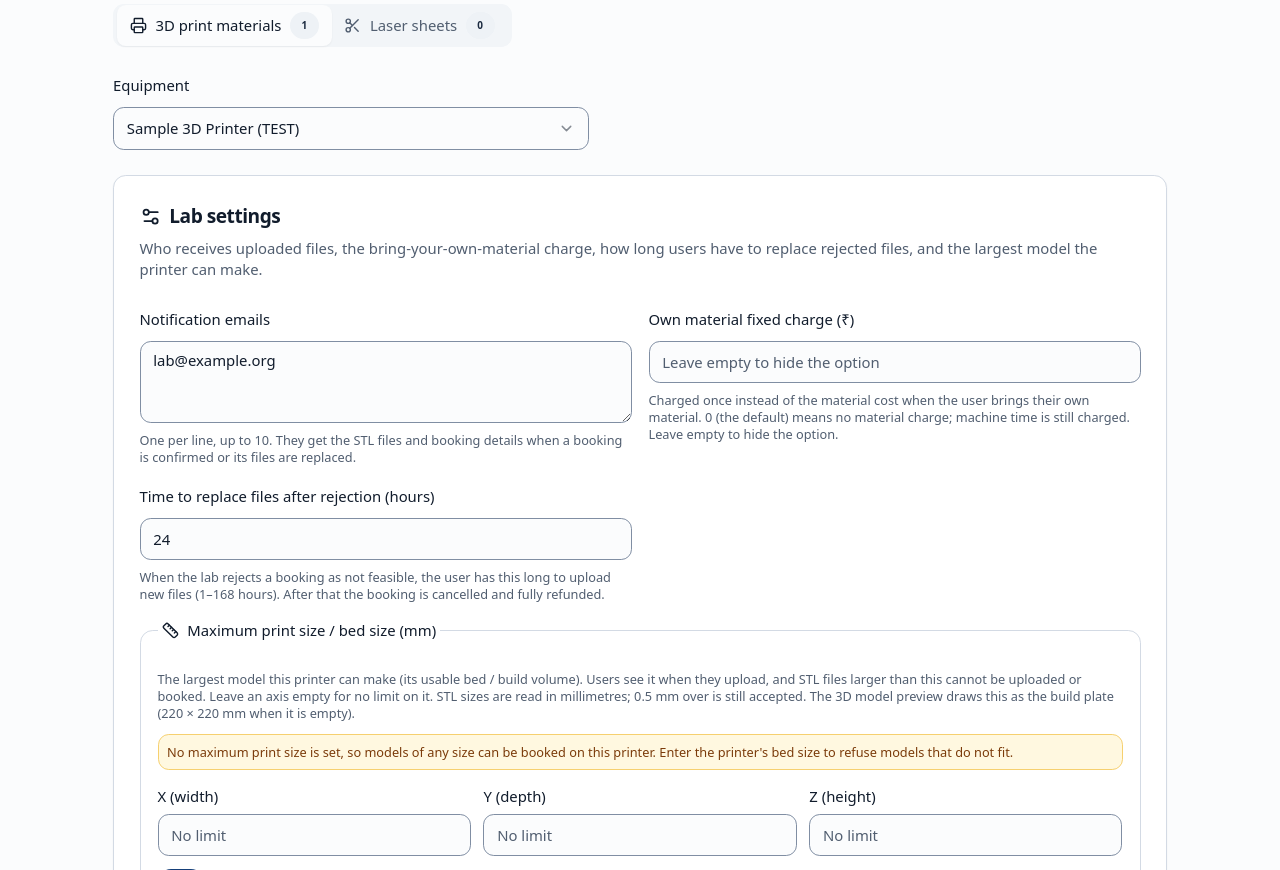
it: OICPrintMaterials lab settings › saves the maximum print size and the rotation choice; blank axes mean no limit
The width and height of the screenshot is (1280, 870).
Type "250" into the number field labelled "X (width)" at (314, 835), box left=158, top=814, right=471, bottom=856
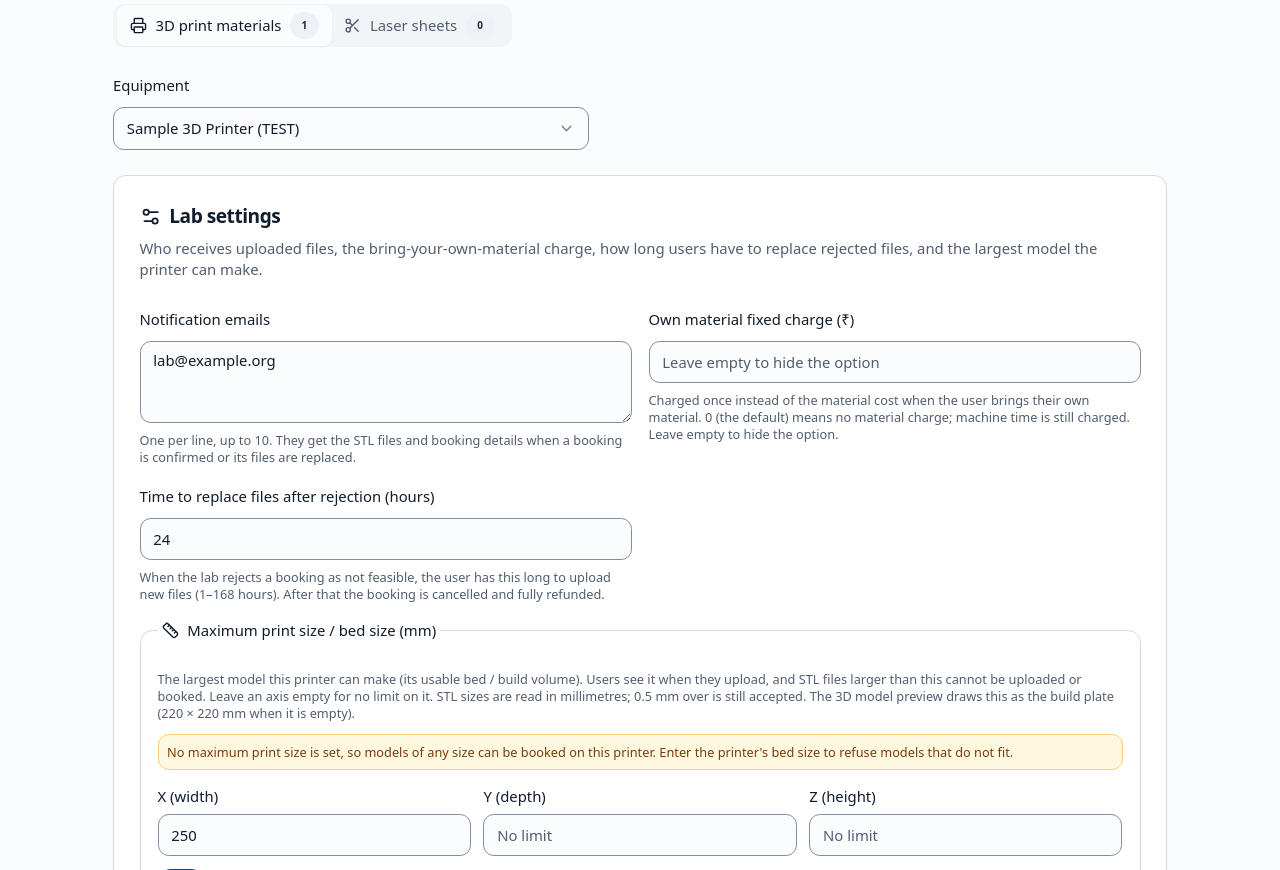
Type "210" into the number field labelled "Y (depth)" at (640, 835), box left=483, top=814, right=797, bottom=856
(page scrolled)
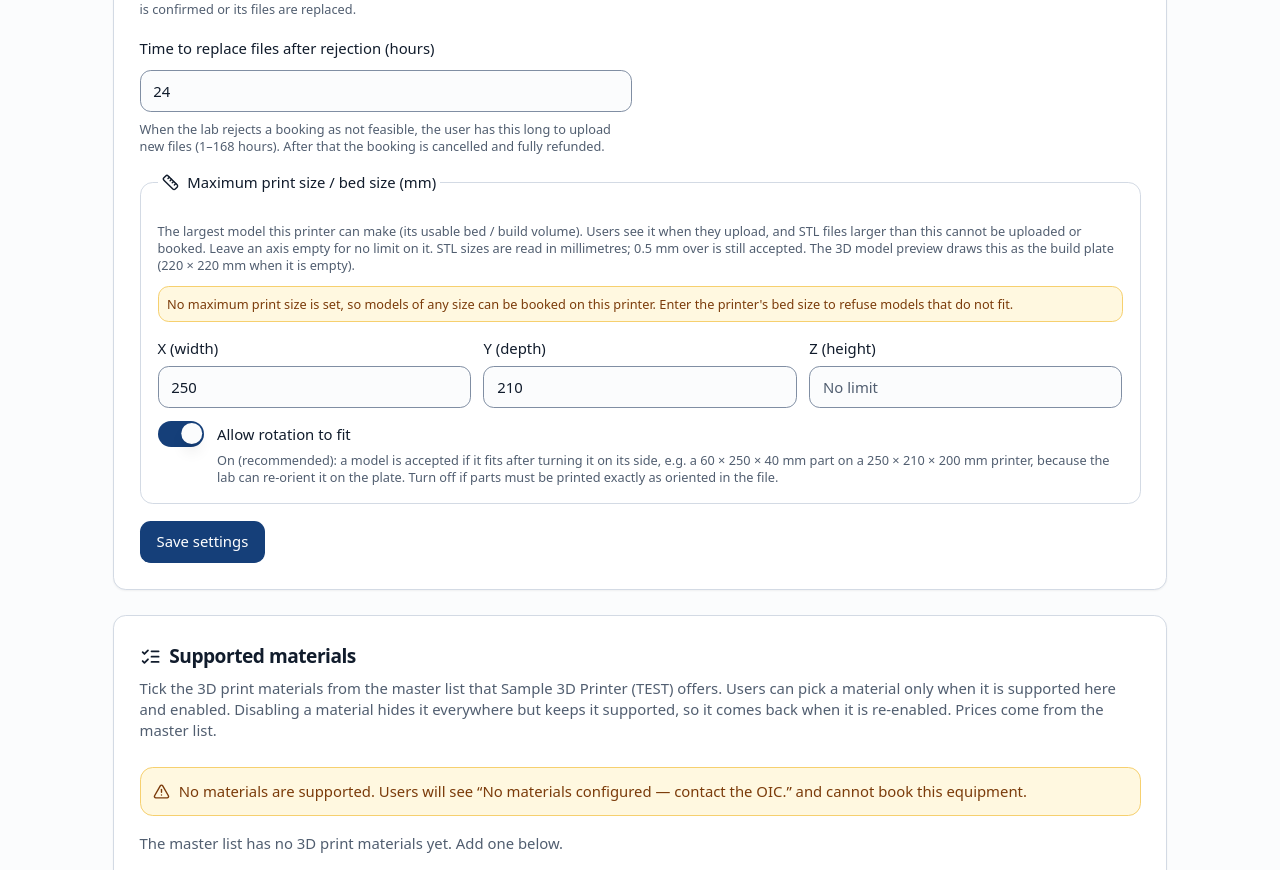
Click the switch named "Allow rotation to fit" at (181, 434), box left=158, top=421, right=204, bottom=446
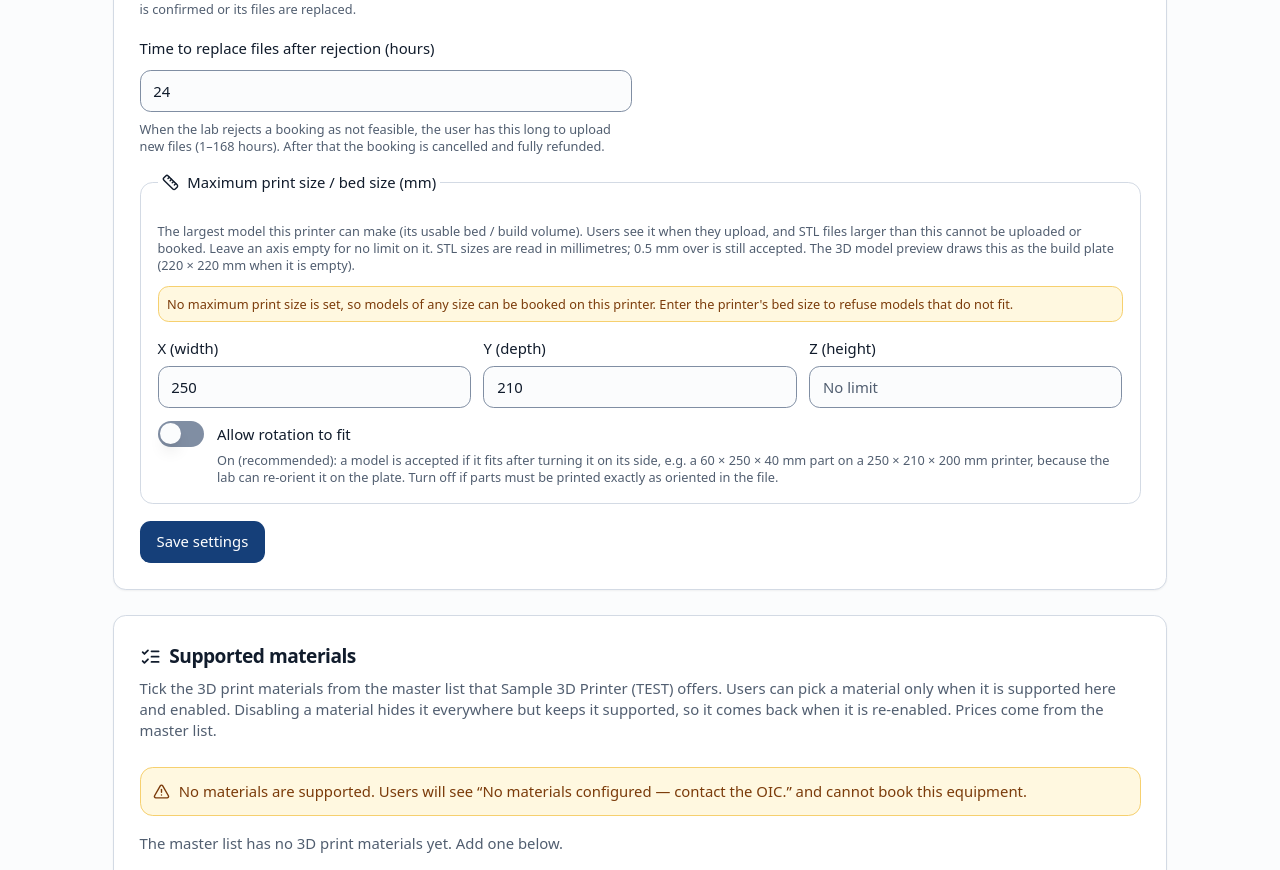
Click the button "Save settings" at (202, 542), box left=140, top=521, right=265, bottom=563
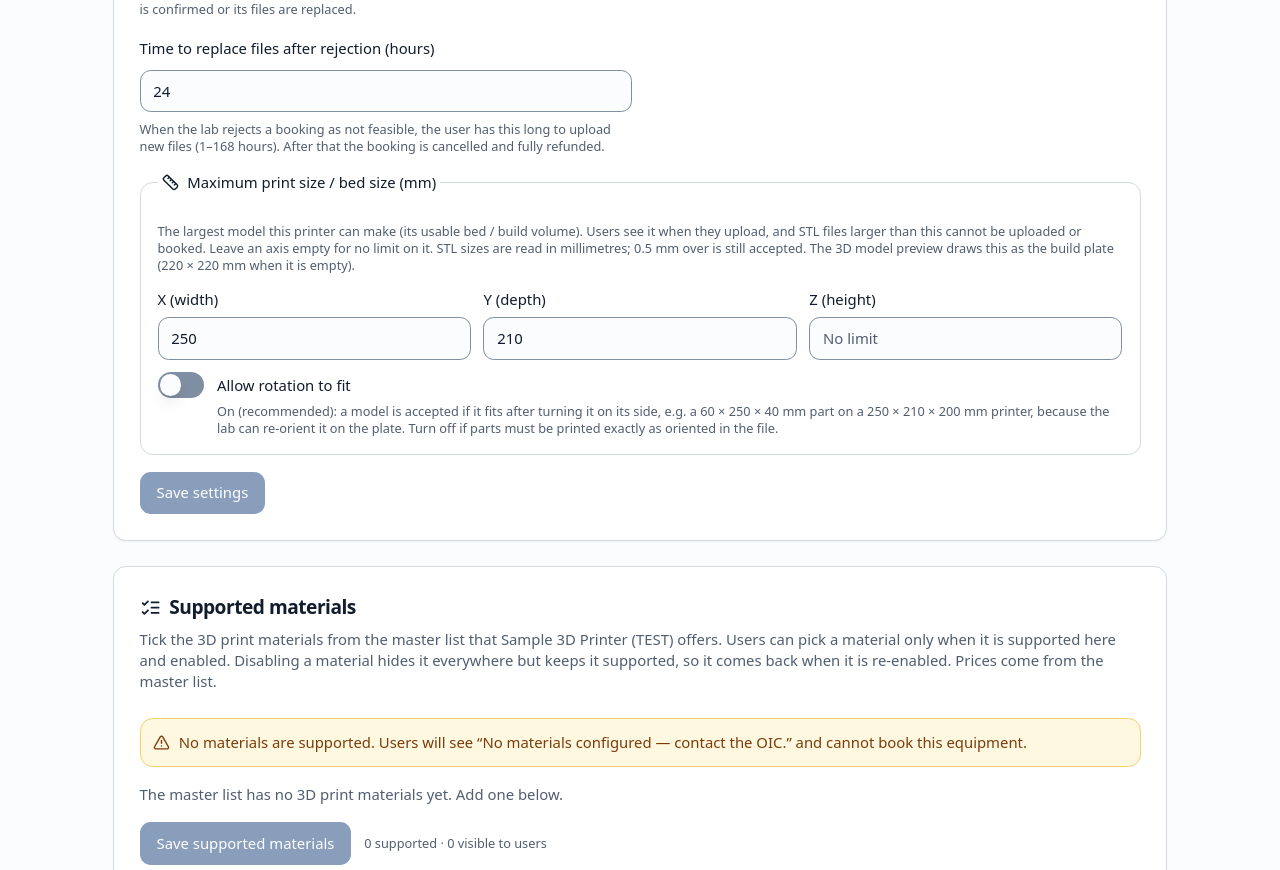
Expected: the message with test id "max-print-size-missing" is gone
